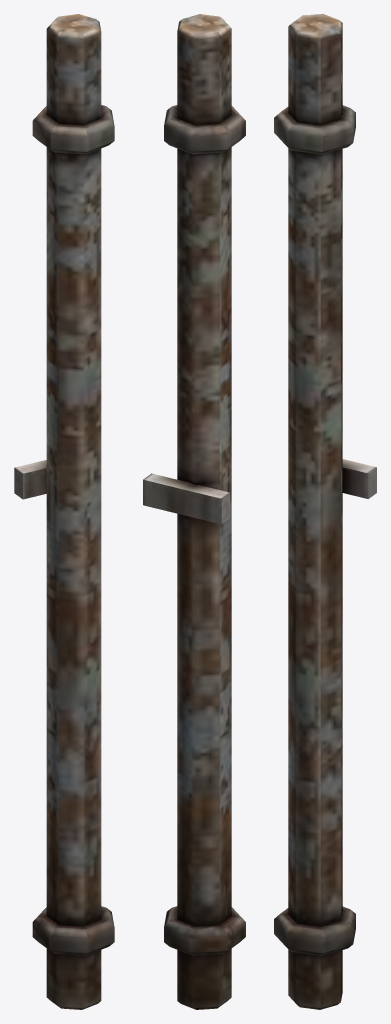
Rendered from cano_descida.glb.
3 renders of one model, left to right at view 1: azimuth 30°, elevation 25°; view 2: azimuth 150°, elevation 25°; view 3: azimuth 330°, elevation 25°, orthographic.
Visible parts, largest first — view 1: cano_descida; view 2: cano_descida; view 3: cano_descida.
Boxes of the visible parts, x1,y1,x2,y2 form: cano_descida: (14, 14, 114, 1009); cano_descida: (143, 14, 245, 1009); cano_descida: (274, 14, 376, 1009).
Size of the model in its own units: 0.16 by 1.9 by 0.1481.
Materials: 1 (1 with a texture image).
